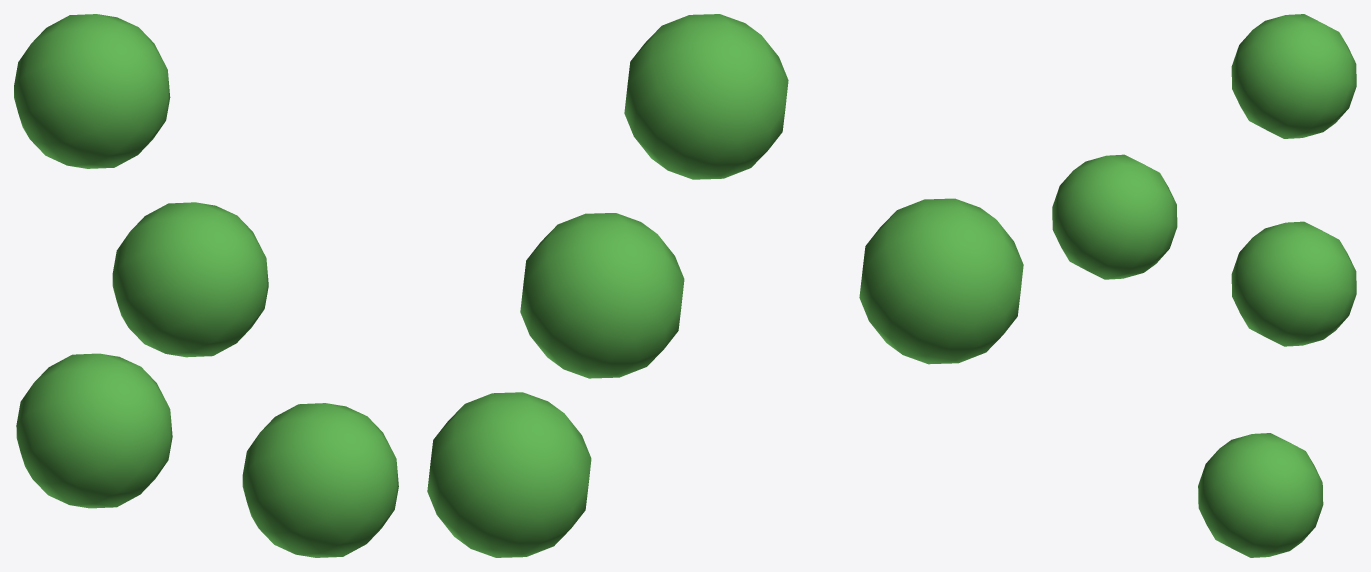
The model's file is linfatico-supraclavicular-nodes-l.glb.
3 views of the same model, side by side, from view 1: azimuth 30°, elevation 25°; view 2: azimuth 150°, elevation 25°; view 3: azimuth 270°, elevation 25° (orthographic). The views are drawn at different scales.
Visible parts, largest first — view 1: Supraclavicular nodes.l; view 2: Supraclavicular nodes.l; view 3: Supraclavicular nodes.l.
Boxes of the visible parts, <box> form: Supraclavicular nodes.l: <box>14,14,398,557</box>; Supraclavicular nodes.l: <box>427,14,1023,557</box>; Supraclavicular nodes.l: <box>1052,14,1356,557</box>.
Bounding box in the file's own units: 0.00855 × 0.0102 × 0.00624.
